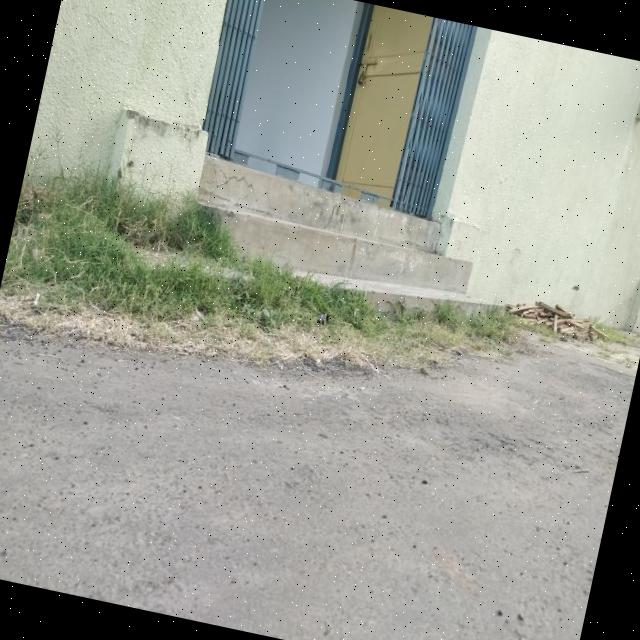stairs: (179, 152, 512, 332)
